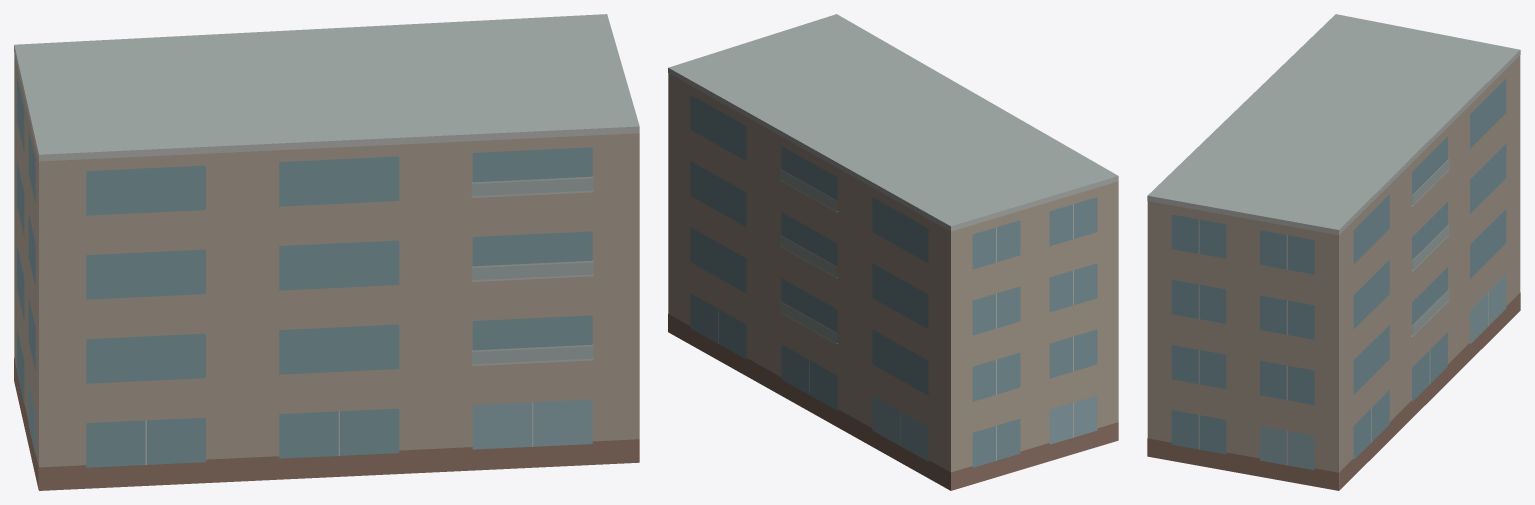
File: survey-upis-32682152.glb
The picture shows the model from 3 angles, left to right: view 1: azimuth 30°, elevation 25°; view 2: azimuth 150°, elevation 25°; view 3: azimuth 270°, elevation 25°; orthographic projection. The views are drawn at different scales.
Visible parts, largest first — view 1: survey-upis-32682152.tmp; view 2: survey-upis-32682152.tmp; view 3: survey-upis-32682152.tmp.
Boxes of the visible parts, left/top/right/bottom form: survey-upis-32682152.tmp: left=14, top=14, right=639, bottom=490; survey-upis-32682152.tmp: left=668, top=14, right=1118, bottom=490; survey-upis-32682152.tmp: left=1147, top=14, right=1520, bottom=490.
Size of the model in its own units: 21.67 by 12.2 by 15.82.
